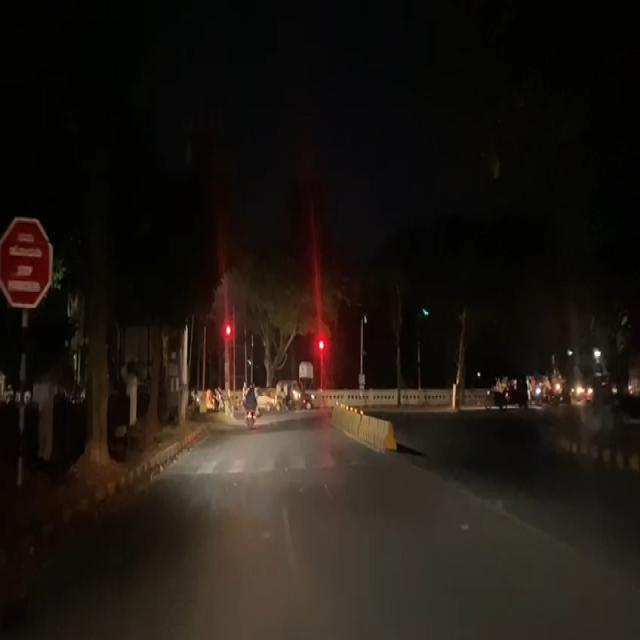bien_cam: (0, 211, 54, 312)
